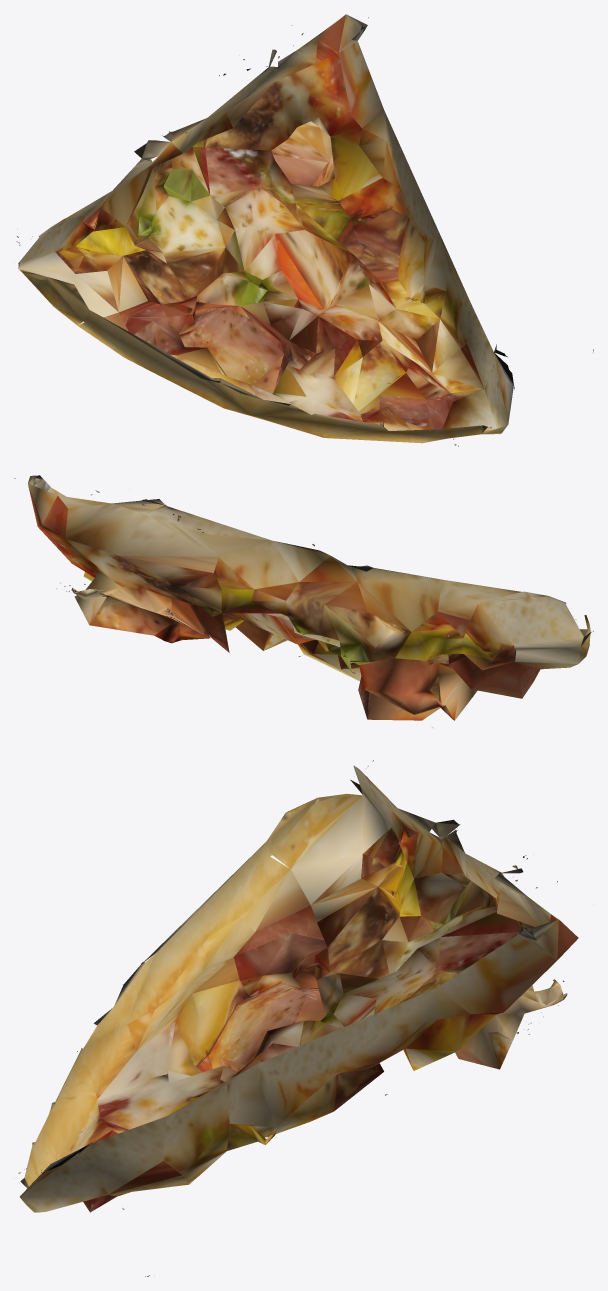
Rendered from pizza_1424.obj.
3 views of the same model, one above another, from view 1: azimuth 30°, elevation 25°; view 2: azimuth 150°, elevation 25°; view 3: azimuth 270°, elevation 25° (orthographic). The views are drawn at different scales.
Bounding box in the file's own units: 1.61 × 0.8221 × 1.27.
Materials: 1 (1 with a texture image).
